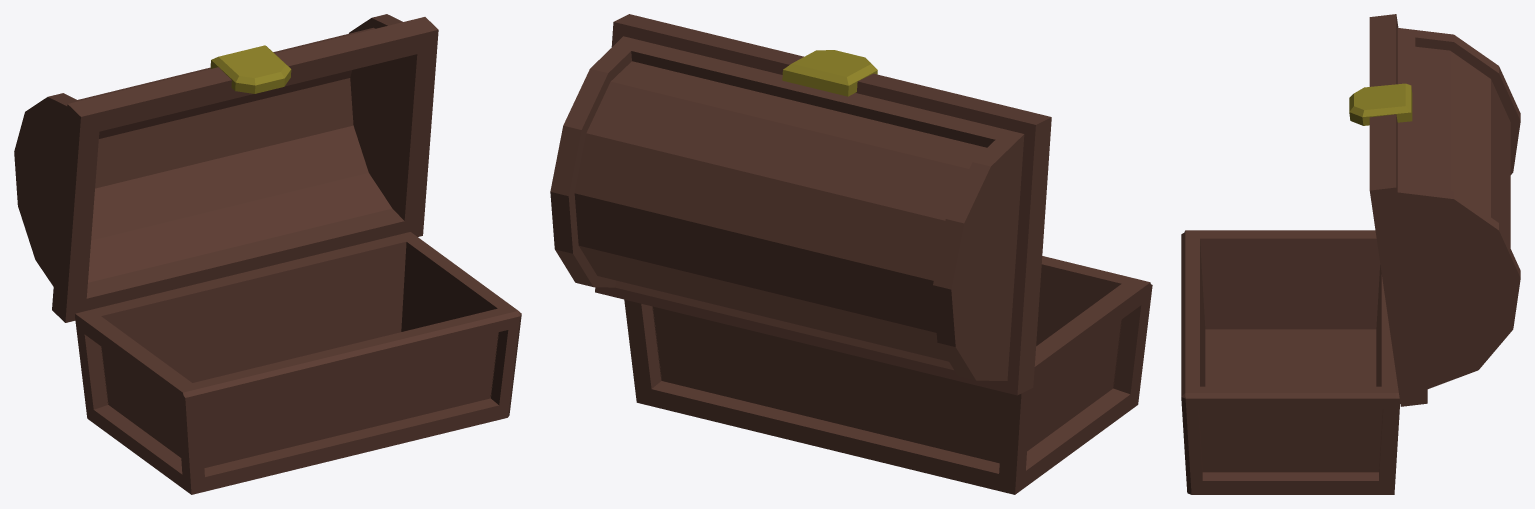
File: Open Chest.fbx
The picture shows the model from 3 angles, left to right: view 1: azimuth 30°, elevation 25°; view 2: azimuth 150°, elevation 25°; view 3: azimuth 270°, elevation 25°; orthographic projection. The views are drawn at different scales.
Parts seen in each view (by area): view 1: Plane.002, Plane.003, Plane.001; view 2: Plane.002, Plane.003, Plane.001; view 3: Plane.003, Plane.002, Plane.001.
Boxes of the visible parts, bbox=[...] form: Plane.002: bbox=[14, 14, 438, 322]; Plane.003: bbox=[75, 232, 521, 494]; Plane.001: bbox=[210, 45, 291, 93]; Plane.002: bbox=[550, 14, 1051, 395]; Plane.003: bbox=[624, 256, 1152, 494]; Plane.001: bbox=[782, 50, 877, 96]; Plane.003: bbox=[1181, 230, 1400, 494]; Plane.002: bbox=[1369, 14, 1520, 406]; Plane.001: bbox=[1349, 83, 1412, 125].
Size of the model in its own units: 211 by 183 by 174.
